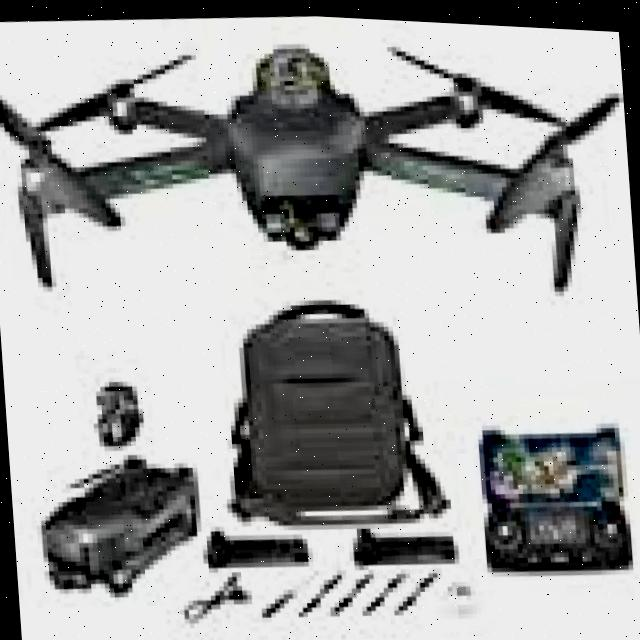drone: (0, 0, 637, 342)
